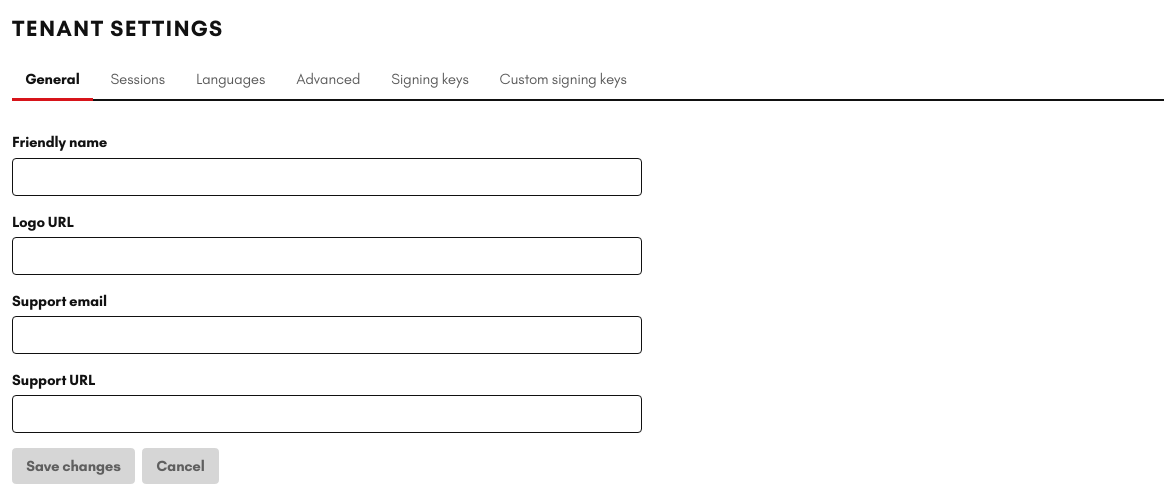
Test: managed signing keys settings › does not allow key changes for the reserved tenant
Press the mouse on the tab "Signing keys" at (430, 81), box [378,61,482,101]
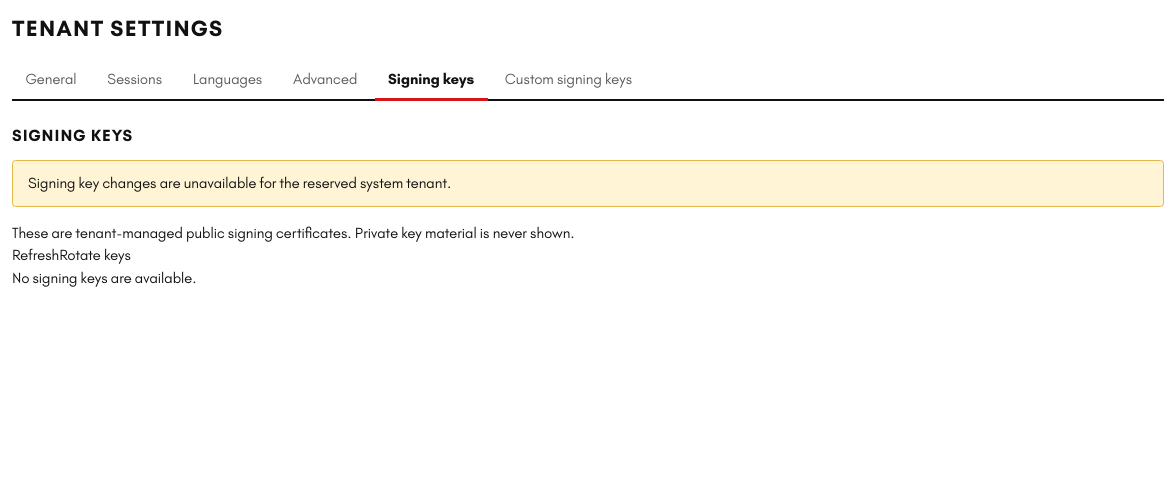
Expected: the button "Rotate keys" is disabled, [59,244,131,267]
